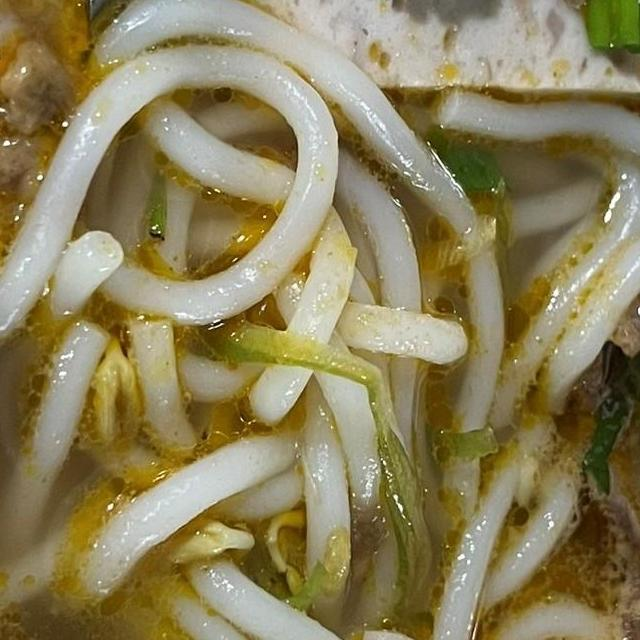bun: (0, 0, 640, 640)
bun bo: (0, 0, 640, 640)
thit bo: (561, 105, 640, 640)
